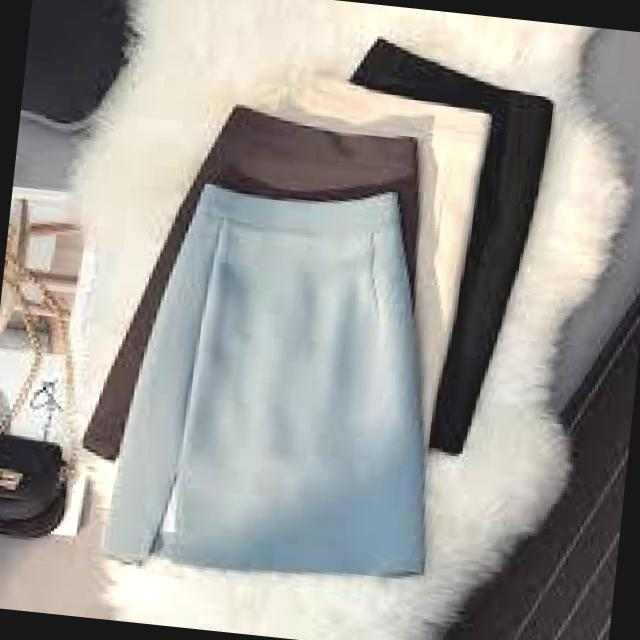skirt: (106, 178, 457, 590)
